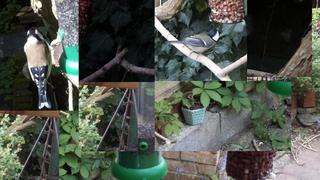goldfinch: (24, 27, 52, 110)
great tit: (164, 27, 220, 60)
